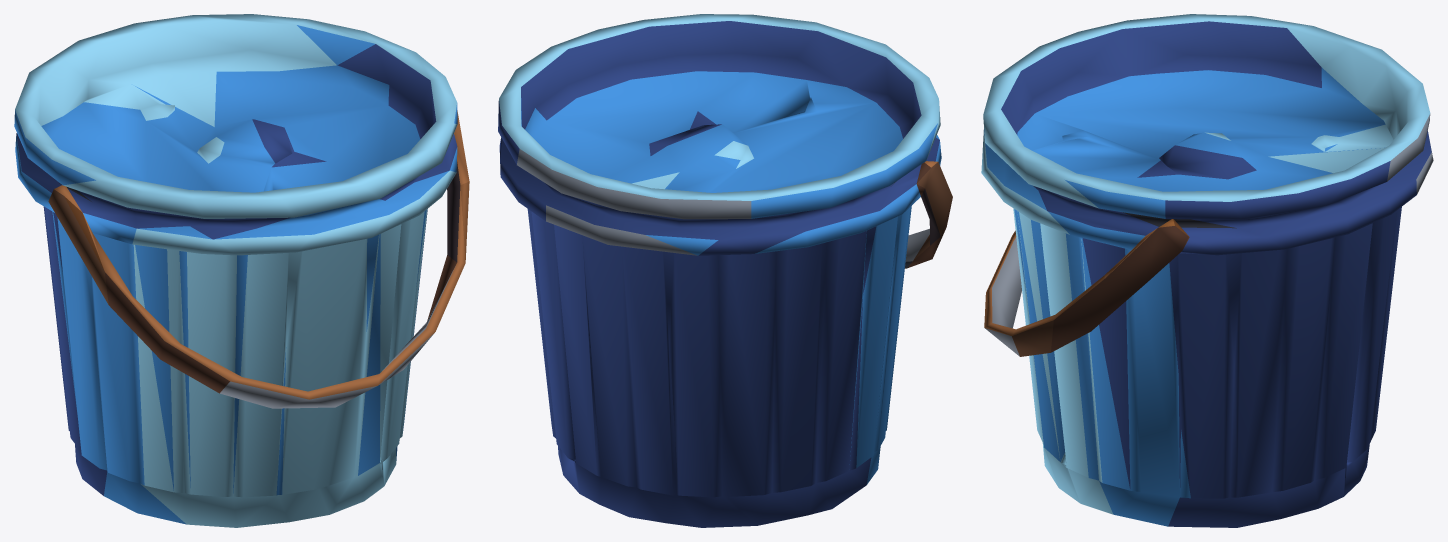
The model's file is SM_bucket_metal_blue.fbx.
The picture shows the model from 3 angles, left to right: view 1: azimuth 30°, elevation 25°; view 2: azimuth 150°, elevation 25°; view 3: azimuth 270°, elevation 25°; orthographic projection.
Visible parts, largest first — view 1: SM_bucket_metal_blue; view 2: SM_bucket_metal_blue; view 3: SM_bucket_metal_blue.
Boxes of the visible parts, x1,y1,x2,y2 form: SM_bucket_metal_blue: (14, 14, 469, 527); SM_bucket_metal_blue: (498, 14, 952, 527); SM_bucket_metal_blue: (981, 14, 1433, 527).
Size of the model in its own units: 46.46 by 40 by 46.14.
1 material, 1 textured.
